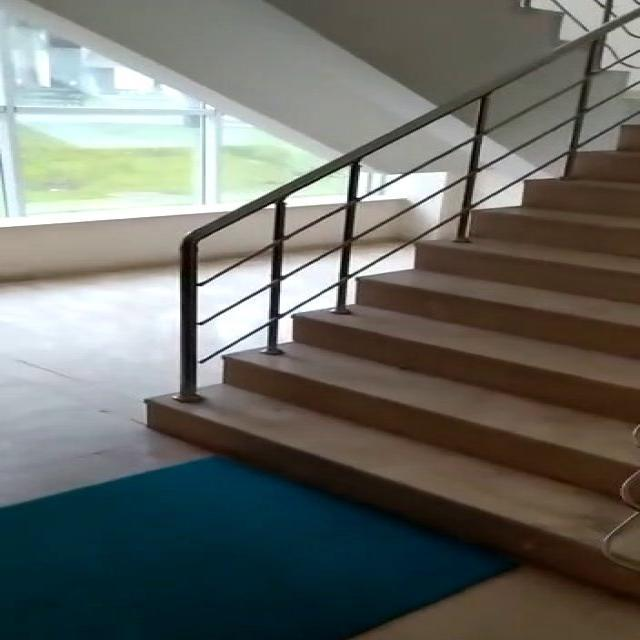stair: (126, 93, 640, 605)
